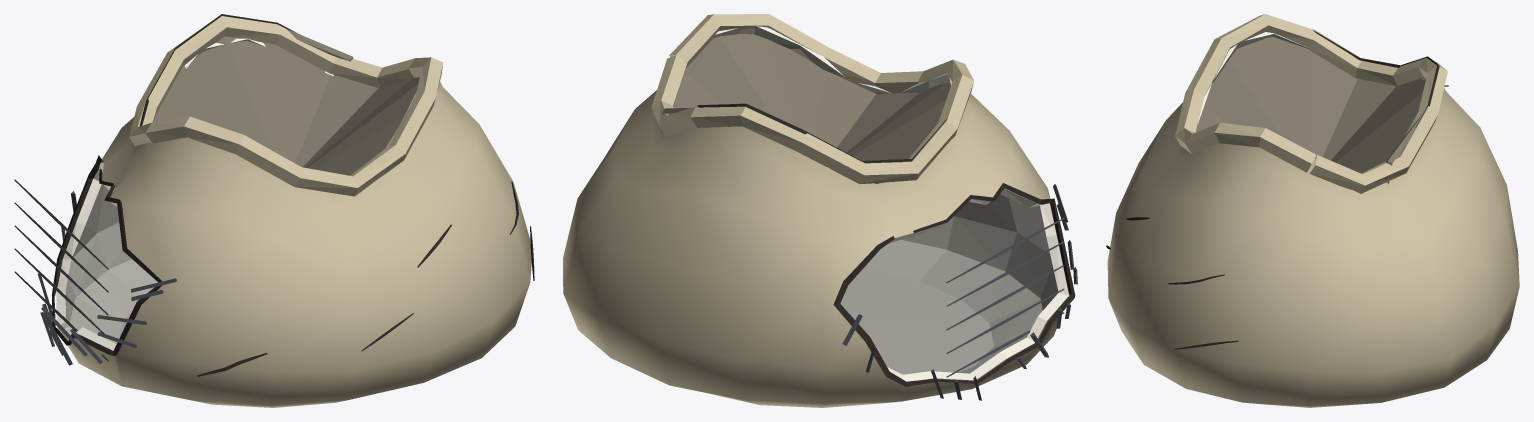
Rendered from Sack_Open.fbx.
The picture shows the model from 3 angles, left to right: view 1: azimuth 30°, elevation 25°; view 2: azimuth 150°, elevation 25°; view 3: azimuth 270°, elevation 25°; orthographic projection. The views are drawn at different scales.
Visible parts, largest first — view 1: Body, Mouth, Lines; view 2: Body, Mouth, Lines; view 3: Body, Mouth, Lines.
Boxes of the visible parts, x1=… form: Body: x1=56, y1=38, x2=531, y2=407; Mouth: x1=129, y1=16, x2=442, y2=196; Lines: x1=14, y1=14, x2=534, y2=376; Body: x1=563, y1=26, x2=1068, y2=407; Mouth: x1=651, y1=14, x2=973, y2=184; Lines: x1=696, y1=103, x2=1077, y2=400; Body: x1=1107, y1=32, x2=1519, y2=407; Mouth: x1=1175, y1=14, x2=1447, y2=193; Lines: x1=1106, y1=29, x2=1448, y2=349.
Size of the model in its own units: 1.05 by 0.6056 by 0.8455.
